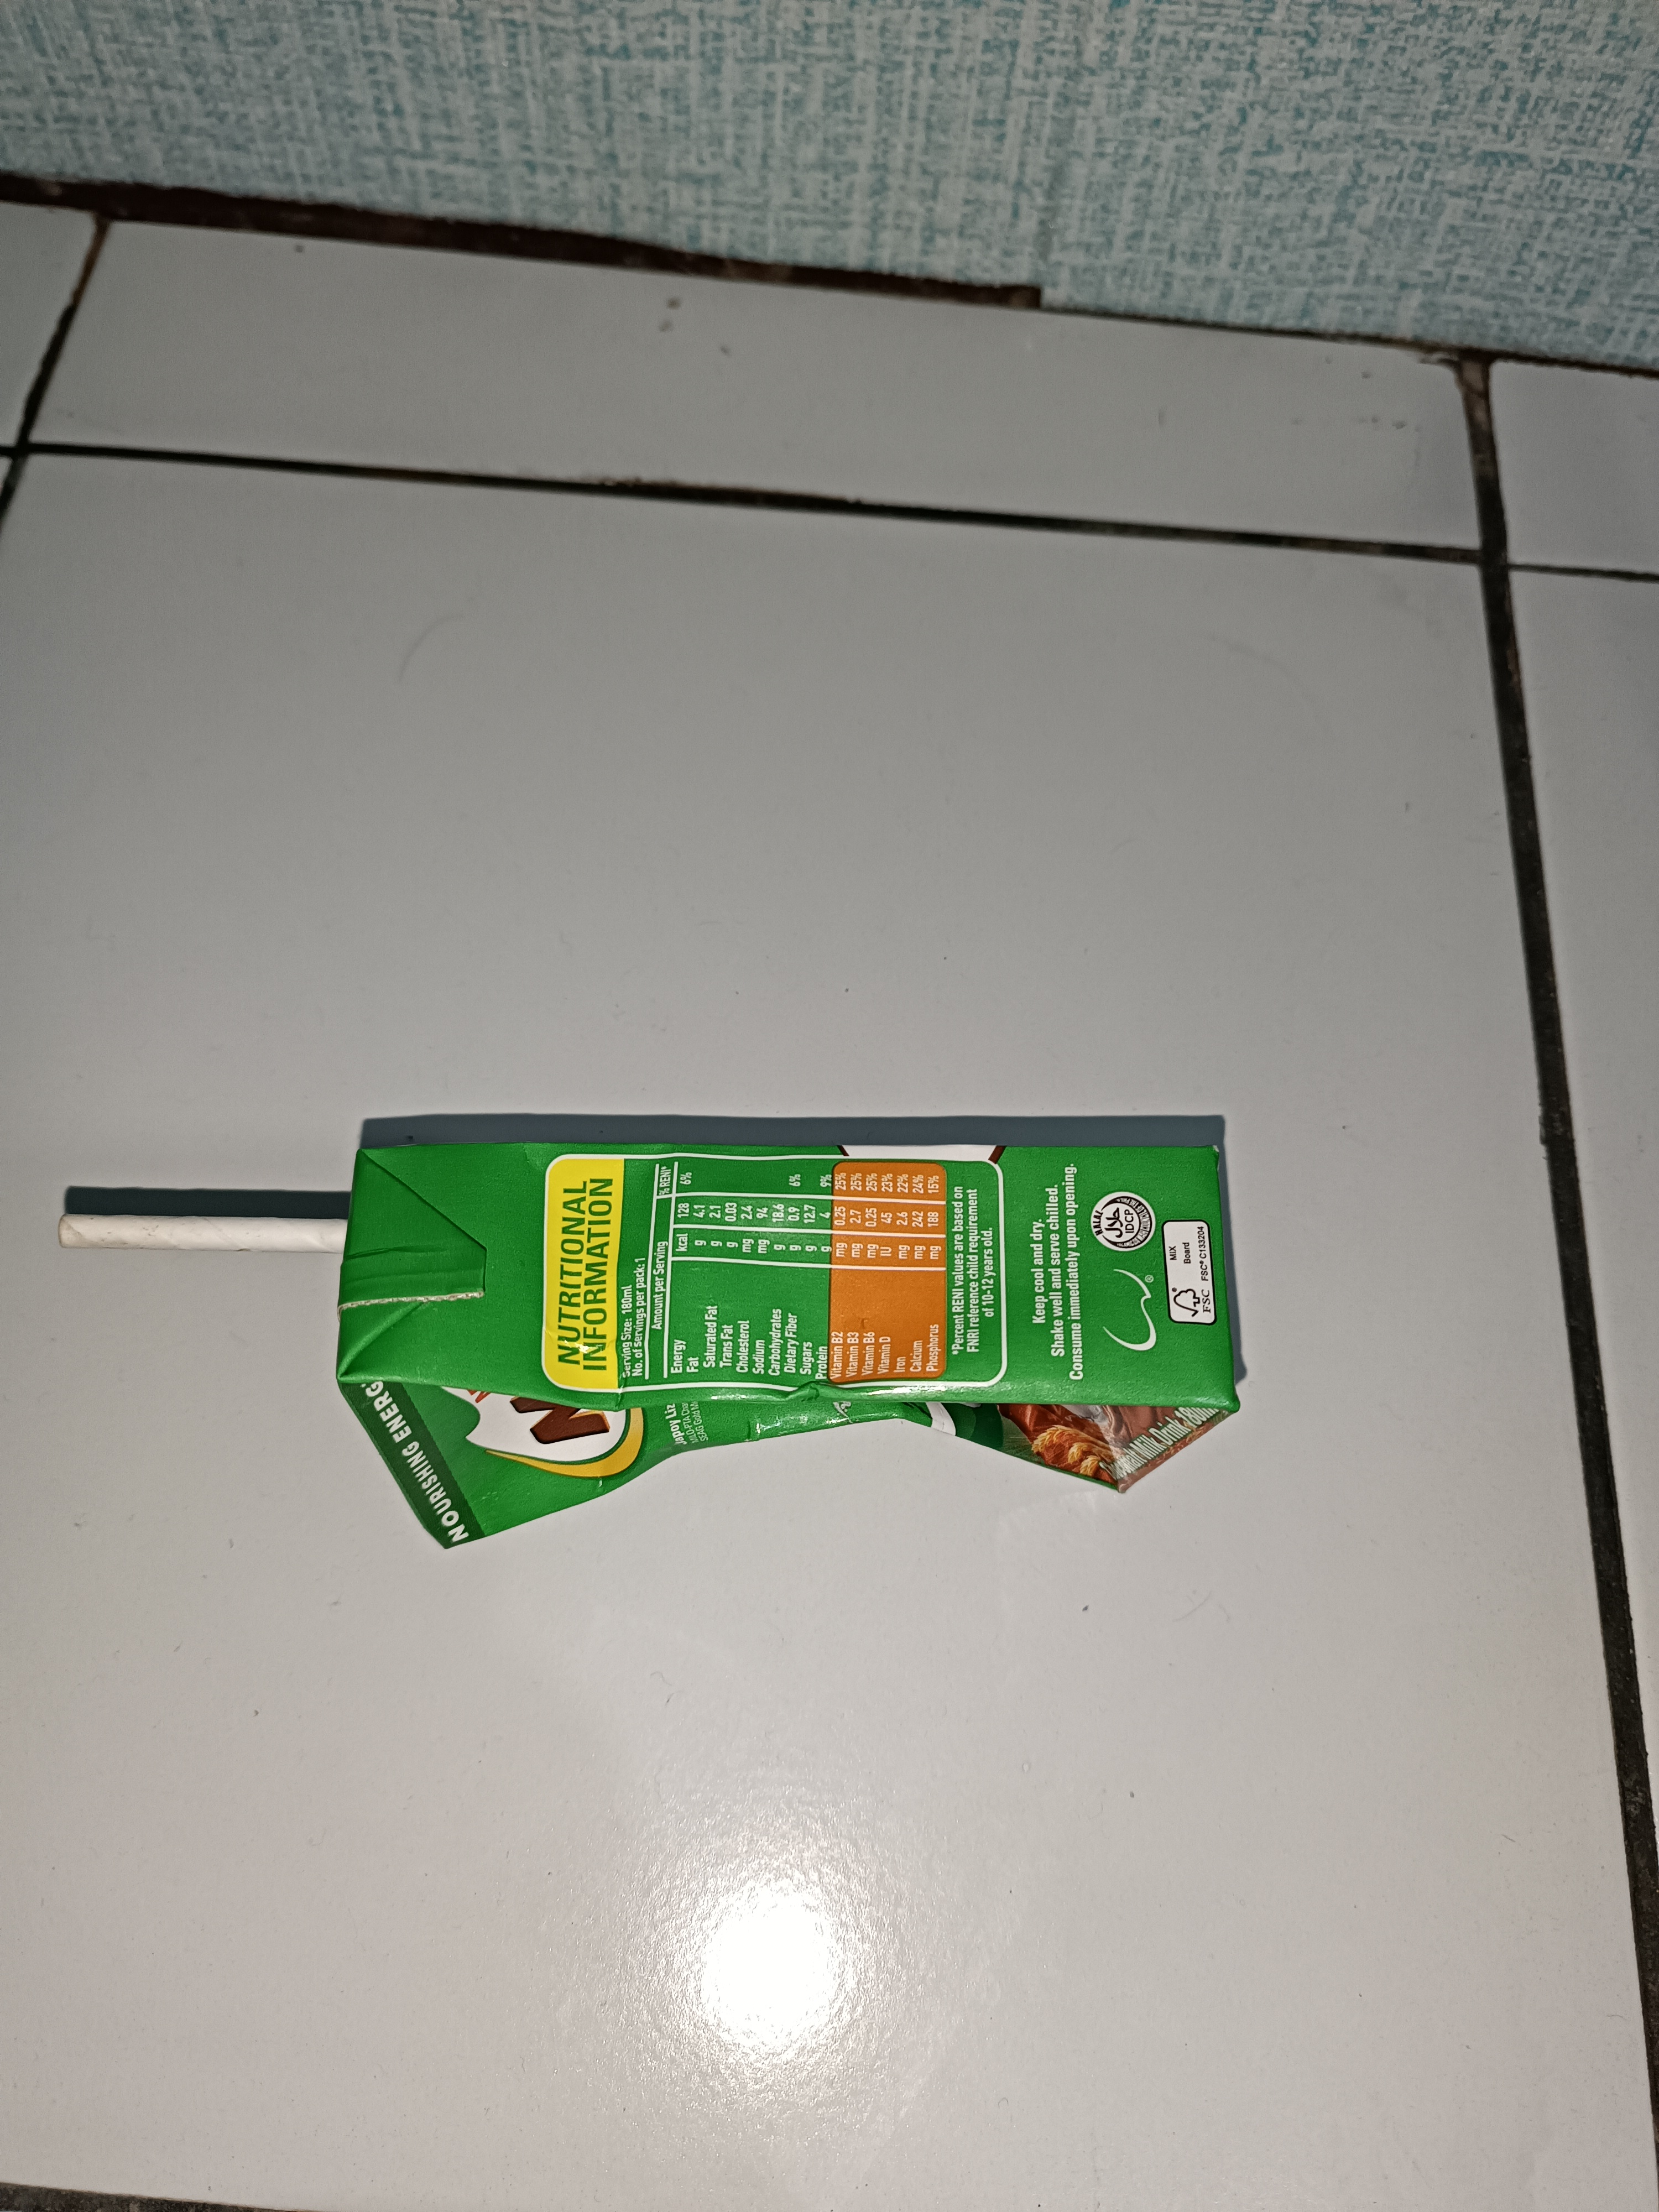Juice Box: (80, 1057, 1279, 1555)
